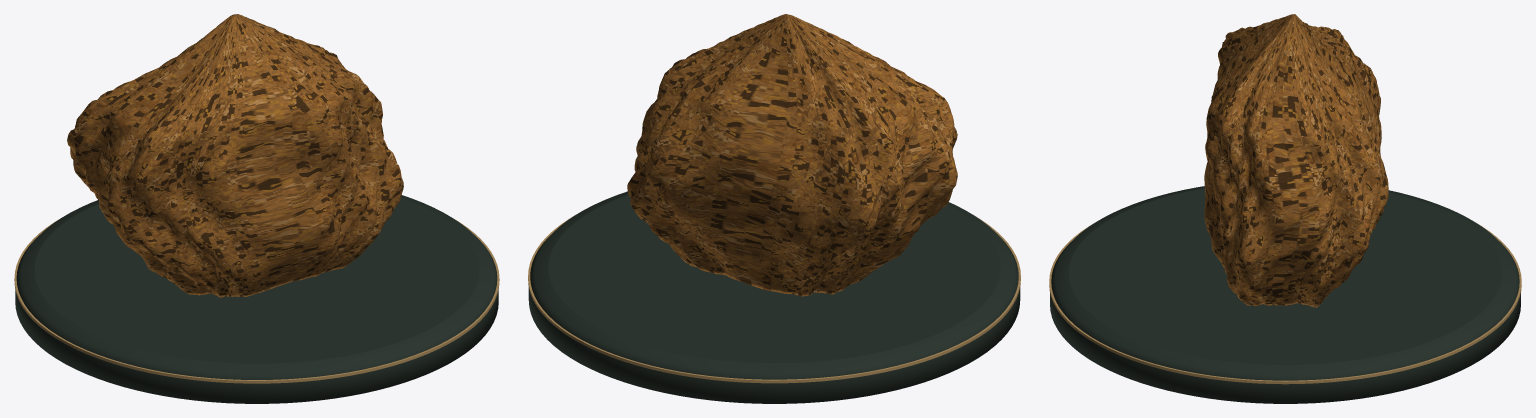
Rendered from lingstone-concept-08-v191-0fe66420e20a.glb.
3 views of the same model, side by side, from view 1: azimuth 30°, elevation 25°; view 2: azimuth 150°, elevation 25°; view 3: azimuth 270°, elevation 25° (orthographic). The views are drawn at different scales.
Visible parts, largest first — view 1: XY-CONCEPT-008 concept stone, Centered beveled display plinth, Champagne gold edge; view 2: XY-CONCEPT-008 concept stone, Centered beveled display plinth, Champagne gold edge; view 3: Centered beveled display plinth, XY-CONCEPT-008 concept stone, Champagne gold edge.
Part boxes in pixels (x1,y1,x2,y2): XY-CONCEPT-008 concept stone: (67, 14, 403, 297); Centered beveled display plinth: (15, 195, 498, 403); Champagne gold edge: (14, 219, 499, 383); XY-CONCEPT-008 concept stone: (627, 14, 957, 296); Centered beveled display plinth: (528, 191, 1020, 403); Champagne gold edge: (528, 217, 1020, 383); Centered beveled display plinth: (1050, 186, 1520, 403); XY-CONCEPT-008 concept stone: (1204, 14, 1388, 307); Champagne gold edge: (1049, 225, 1521, 384).
Size of the model in its own units: 2.41 by 1.6 by 2.41.
Materials: 3 (1 with a texture image).
